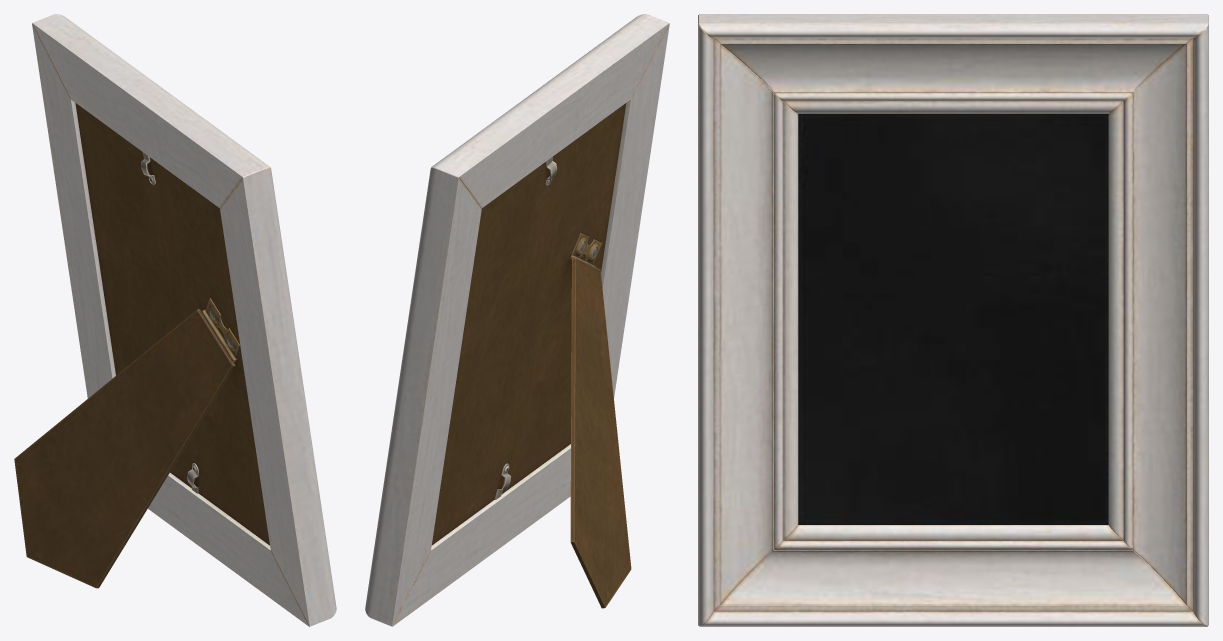
3 views of the same model, side by side, from view 1: azimuth 30°, elevation 25°; view 2: azimuth 150°, elevation 25°; view 3: azimuth 270°, elevation 25° (orthographic). The views are drawn at different scales.
Parts seen in each view (by area): view 1: standing_picture_frame_02; view 2: standing_picture_frame_02; view 3: standing_picture_frame_02.
Boxes of the visible parts, box(x1,y1,x2,y2) form: standing_picture_frame_02: box(14, 14, 336, 626); standing_picture_frame_02: box(365, 14, 669, 626); standing_picture_frame_02: box(698, 14, 1208, 626).
Bounding box in the file's own units: 0.1023 × 0.2664 × 0.2169.
Materials: 3 (3 with a texture image).
